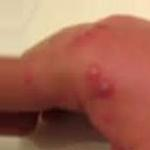Ants: (95, 79, 115, 98), (86, 64, 101, 81)
